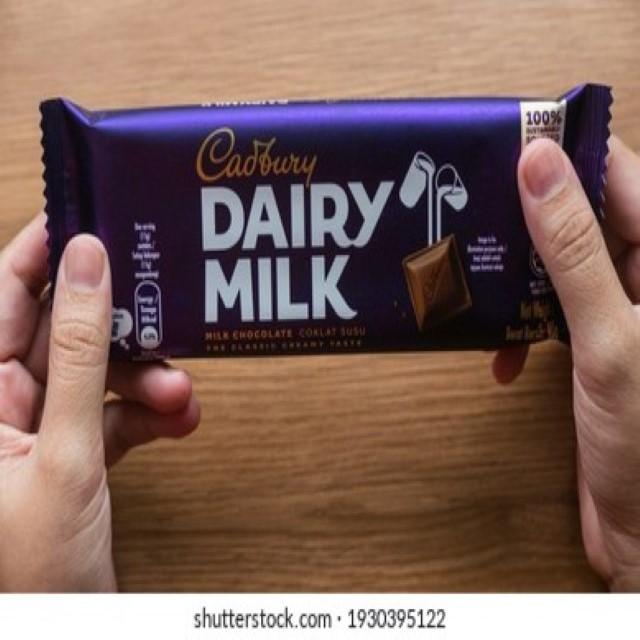cadbury_chocolate: (70, 102, 583, 345)
